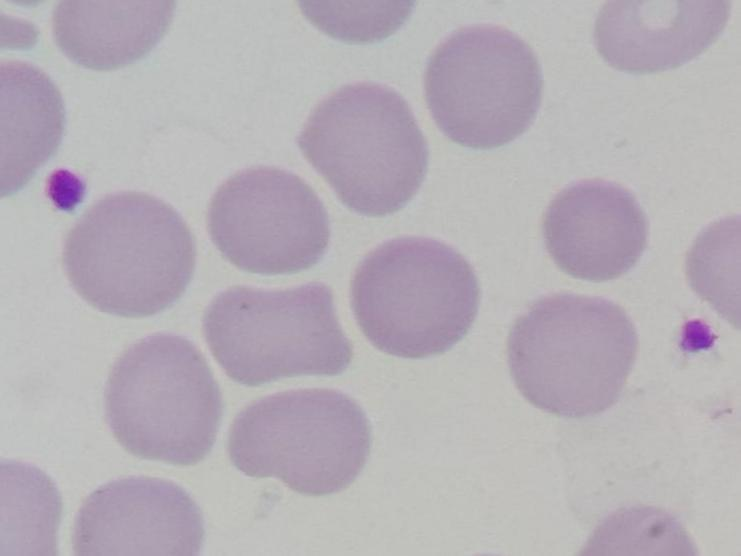Uninfected: (60, 193, 198, 319), (510, 294, 643, 418), (102, 333, 225, 466), (305, 83, 428, 214), (229, 389, 370, 498), (204, 285, 356, 384), (351, 235, 476, 355), (426, 24, 546, 148), (209, 166, 330, 276), (591, 0, 735, 77), (542, 179, 650, 281), (71, 475, 203, 556), (0, 59, 66, 205), (51, 0, 174, 74)
